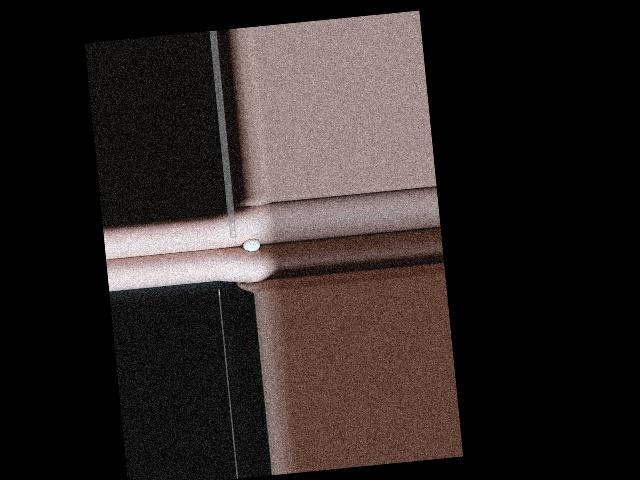egg: (242, 238, 260, 252)
